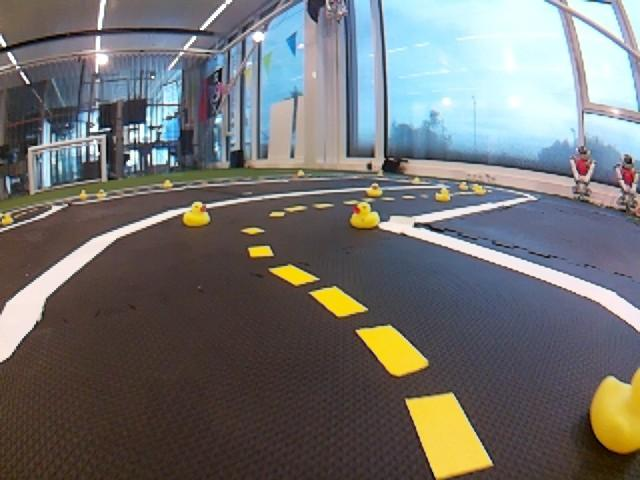Duckies: (590, 366, 640, 453), (349, 202, 379, 228), (183, 202, 209, 226), (435, 188, 451, 202), (367, 183, 383, 195), (2, 213, 13, 225), (473, 186, 486, 195), (162, 180, 172, 187), (96, 191, 106, 198), (459, 182, 467, 190), (79, 192, 88, 199), (413, 177, 420, 184), (378, 170, 384, 176), (297, 170, 304, 175)
